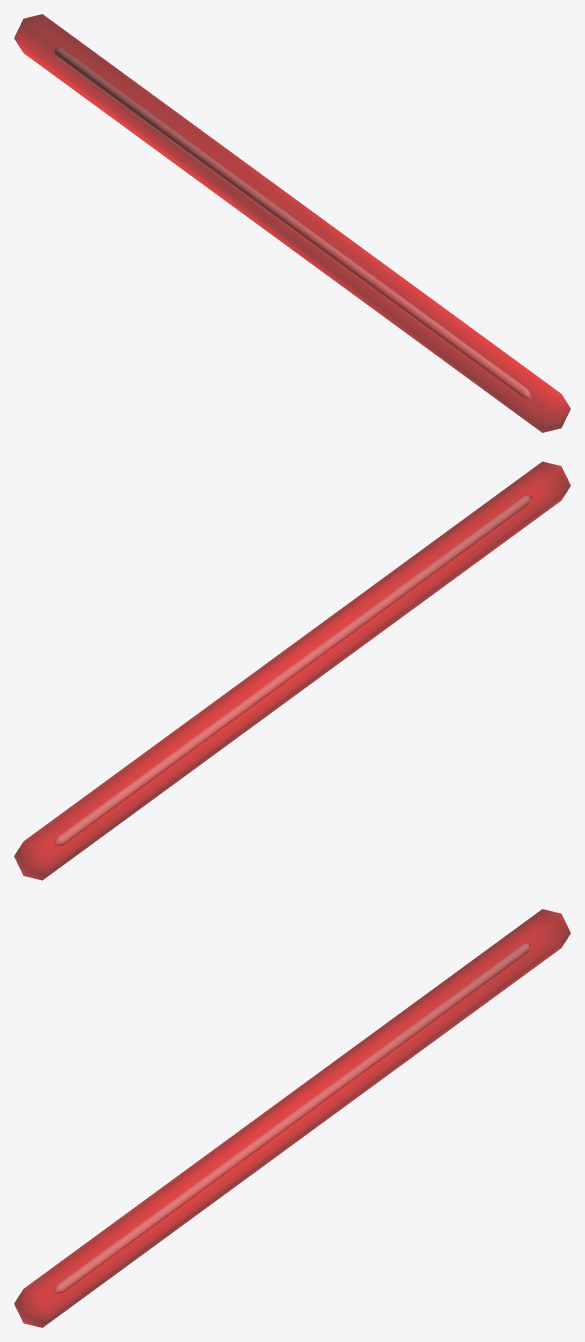
The model's file is red_laser_model.fbx.
3 views of the same model, one above another, from view 1: azimuth 30°, elevation 25°; view 2: azimuth 150°, elevation 25°; view 3: azimuth 330°, elevation 25° (orthographic).
Visible parts, largest first — view 1: glow, bolt; view 2: glow, bolt; view 3: glow, bolt.
Part boxes in pixels (left/top/right/bottom): glow: left=14, top=14, right=570, bottom=432; bolt: left=54, top=48, right=531, bottom=398; glow: left=14, top=461, right=570, bottom=880; bolt: left=54, top=495, right=531, bottom=845; glow: left=14, top=909, right=570, bottom=1327; bolt: left=53, top=943, right=530, bottom=1293.
Size of the model in its own units: 3.15 by 2.73 by 76.43.
